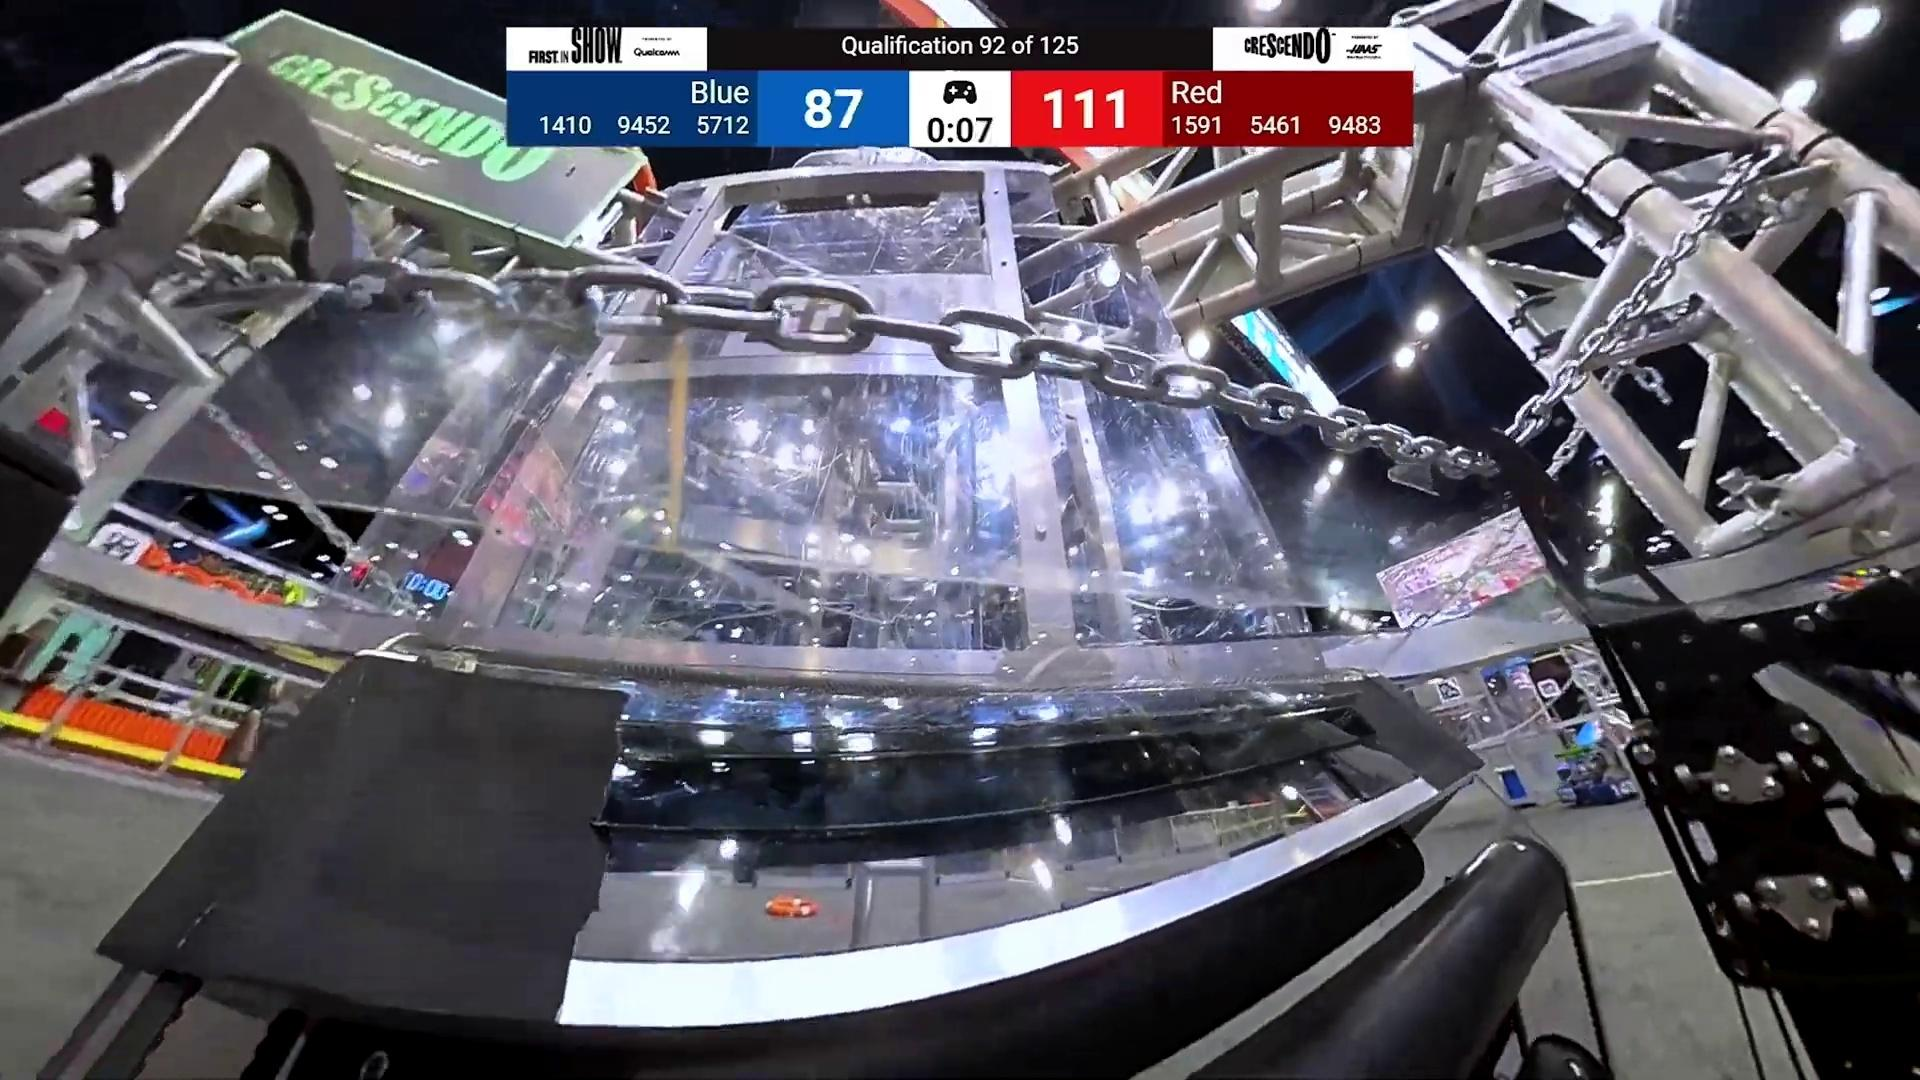robot: (1555, 741, 1639, 807)
